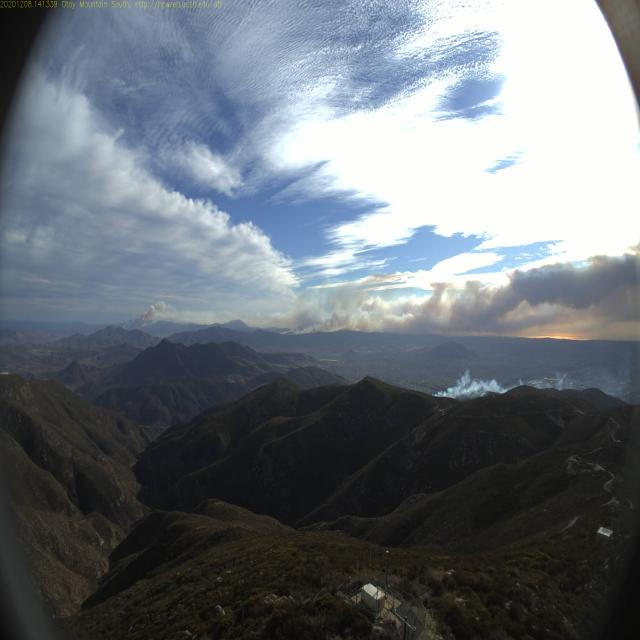smoke: (586, 348, 634, 409), (432, 366, 499, 399), (501, 370, 584, 394)
